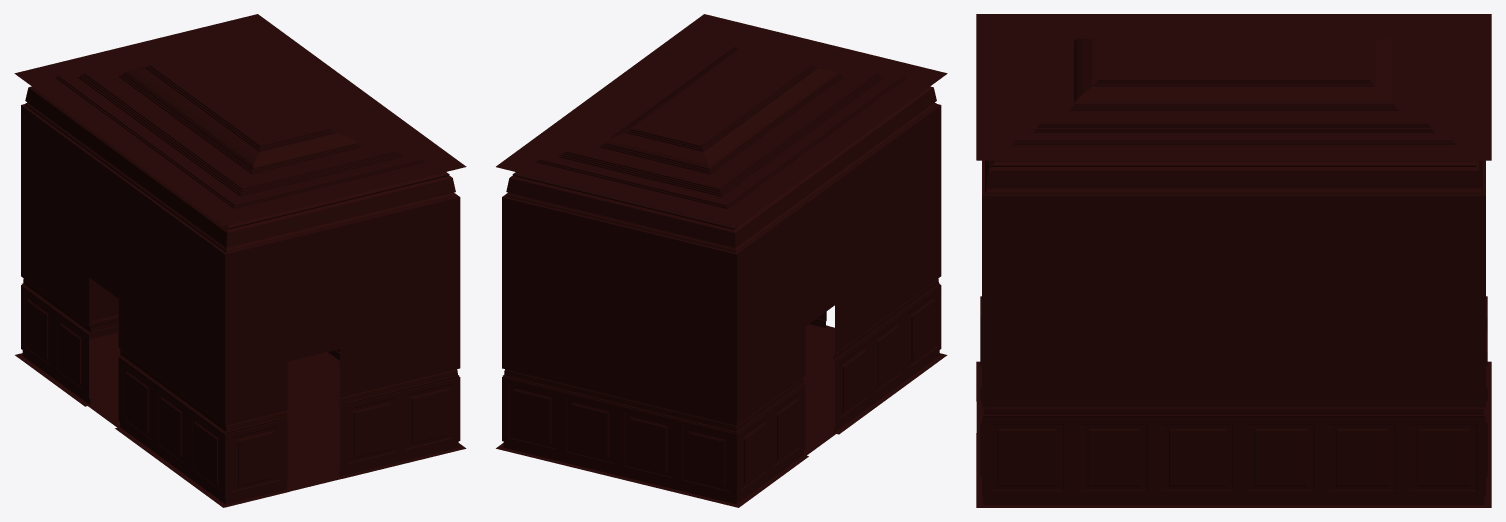
File: 2door_2.FBX
3 views of the same model, side by side, from view 1: azimuth 30°, elevation 25°; view 2: azimuth 150°, elevation 25°; view 3: azimuth 270°, elevation 25° (orthographic). The views are drawn at different scales.
Parts seen in each view (by area): view 1: wall, ceiling, floor; view 2: wall, ceiling, floor; view 3: wall, ceiling, floor.
Boxes of the visible parts, x1,y1,x2,y2 form: wall: (15, 14, 466, 507); ceiling: (14, 24, 441, 225); floor: (19, 332, 463, 506); wall: (496, 14, 947, 507); ceiling: (504, 24, 946, 225); floor: (500, 324, 944, 506); wall: (976, 14, 1491, 507); ceiling: (977, 23, 1491, 160); floor: (976, 363, 1488, 506).
Size of the model in its own units: 160 by 238 by 192.
